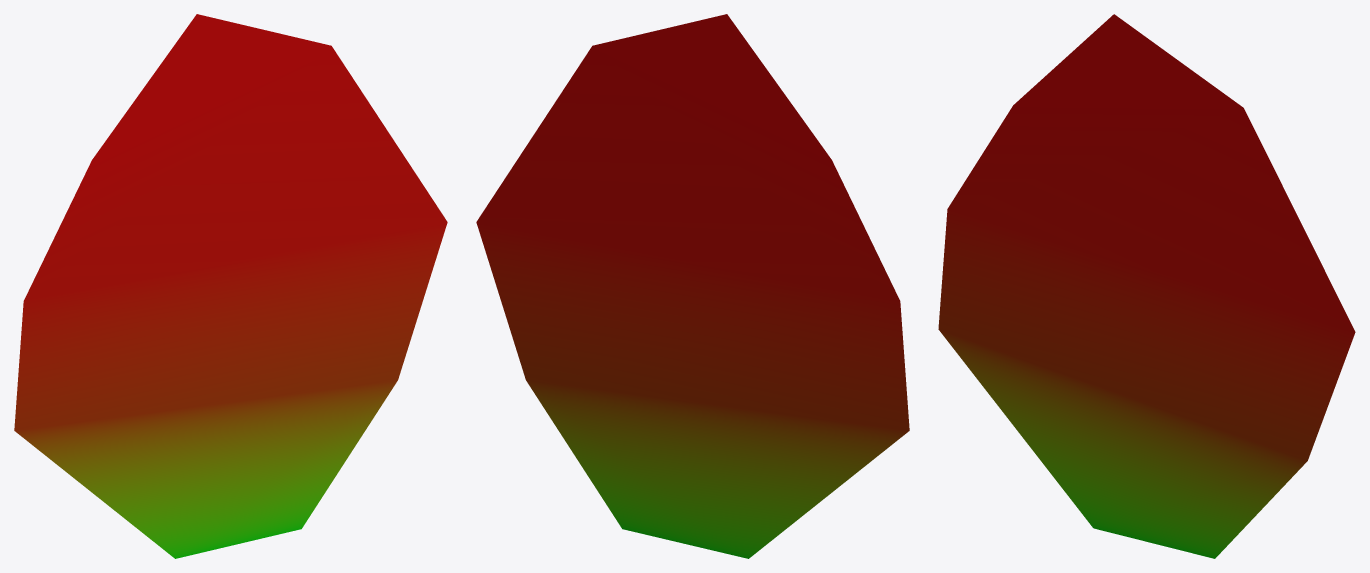
Rendered from ueyoebmia_Var8_LOD3.fbx.
The picture shows the model from 3 angles, left to right: view 1: azimuth 30°, elevation 25°; view 2: azimuth 150°, elevation 25°; view 3: azimuth 330°, elevation 25°; orthographic projection. The views are drawn at different scales.
Parts seen in each view (by area): view 1: _4d03_Var8_LOD3; view 2: _4d03_Var8_LOD3; view 3: _4d03_Var8_LOD3.
Boxes of the visible parts, <box> form: _4d03_Var8_LOD3: <box>14,14,447,558</box>; _4d03_Var8_LOD3: <box>476,14,909,558</box>; _4d03_Var8_LOD3: <box>938,14,1355,558</box>.
Bounding box in the file's own units: 39.87 × 47.54 × 1.43e-06.
